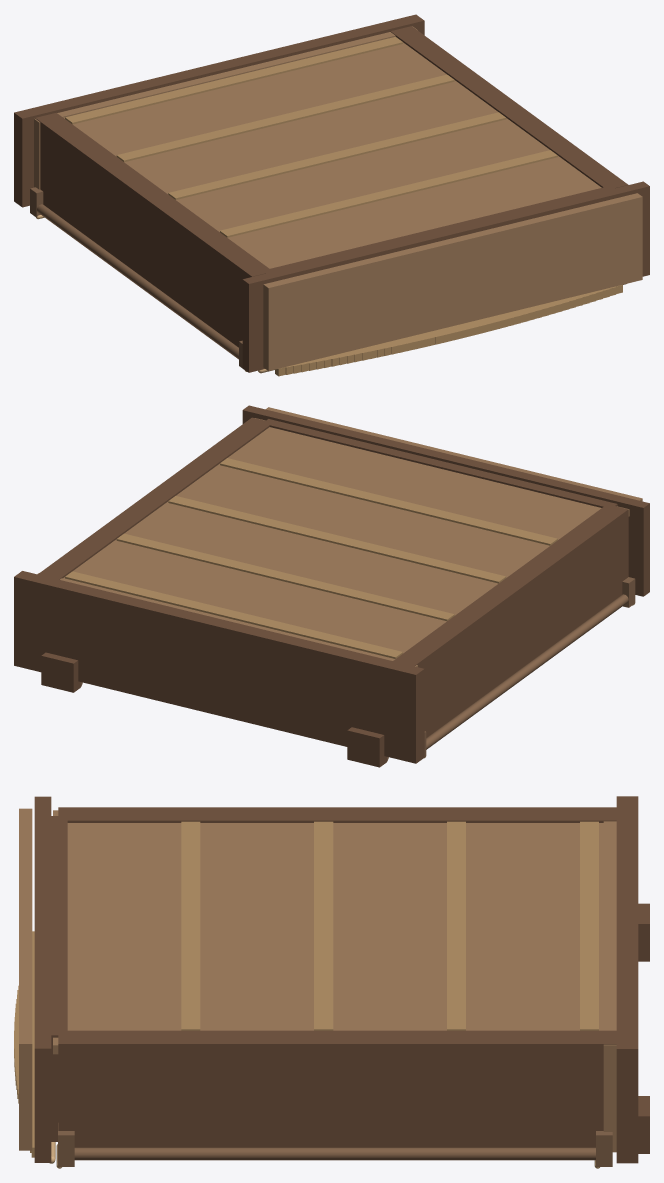
The model's file is arctic_tall_bookshelf_with_bottom_props.glb.
The picture shows the model from 3 angles, top to bottom: view 1: azimuth 30°, elevation 25°; view 2: azimuth 150°, elevation 25°; view 3: azimuth 270°, elevation 25°; orthographic projection. The views are drawn at different scales.
Parts seen in each view (by area): view 1: bookshelf_back_wall_single_clean_panel, bookshelf_top_upper_step_warm, bookshelf_left_side_board_dark_core, bookshelf_top_overhanging_cap_clean, bookshelf_bottom_long_plinth_dark, bookshelf_right_side_board_dark_core, bookshelf_shelf_2_thick_structural_board, bookshelf_shelf_3_thick_structural_board, bookshelf_shelf_4_thick_structural_board, bookshelf_shelf_1_thick_structural_board, bookshelf_bottom_stepped_plinth_walnut, bookshelf_left_front_outer_rounded_edge (+1 smaller); view 2: bookshelf_back_wall_single_clean_panel, bookshelf_bottom_long_plinth_dark, bookshelf_left_side_board_dark_core, bookshelf_top_overhanging_cap_clean, bookshelf_right_side_board_dark_core, bookshelf_shelf_2_thick_structural_board, bookshelf_shelf_3_thick_structural_board, bookshelf_shelf_1_thick_structural_board, bookshelf_shelf_4_thick_structural_board, bookshelf_top_roof_structural_board, bookshelf_left_front_outer_rounded_edge, bookshelf_top_upper_step_warm (+3 smaller); view 3: bookshelf_back_wall_single_clean_panel, bookshelf_right_side_board_dark_core, bookshelf_left_side_board_dark_core, bookshelf_bottom_long_plinth_dark, bookshelf_right_front_outer_rounded_edge, bookshelf_top_overhanging_cap_clean, bookshelf_top_upper_step_warm, bookshelf_top_roof_structural_board, bookshelf_bottom_stepped_plinth_walnut, bookshelf_shelf_3_thick_structural_board, bookshelf_shelf_4_thick_structural_board, bookshelf_shelf_1_thick_structural_board (+5 smaller).
Boxes of the visible parts, left/top/right/bottom form: bookshelf_back_wall_single_clean_panel: left=63, top=42, right=601, bottom=268; bookshelf_top_upper_step_warm: left=263, top=193, right=642, bottom=370; bookshelf_left_side_board_dark_core: left=35, top=112, right=272, bottom=347; bookshelf_top_overhanging_cap_clean: left=242, top=181, right=649, bottom=372; bookshelf_bottom_long_plinth_dark: left=14, top=14, right=424, bottom=207; bookshelf_right_side_board_dark_core: left=390, top=26, right=628, bottom=189; bookshelf_shelf_2_thick_structural_board: left=116, top=74, right=454, bottom=162; bookshelf_shelf_3_thick_structural_board: left=168, top=112, right=506, bottom=199; bookshelf_shelf_4_thick_structural_board: left=220, top=150, right=557, bottom=237; bookshelf_shelf_1_thick_structural_board: left=65, top=36, right=402, bottom=124; bookshelf_bottom_stepped_plinth_walnut: left=34, top=26, right=417, bottom=189; bookshelf_left_front_outer_rounded_edge: left=37, top=204, right=238, bottom=359; bookshelf_back_wall_single_clean_panel: left=63, top=418, right=629, bottom=659; bookshelf_bottom_long_plinth_dark: left=14, top=571, right=424, bottom=763; bookshelf_left_side_board_dark_core: left=393, top=504, right=628, bottom=737; bookshelf_top_overhanging_cap_clean: left=242, top=405, right=649, bottom=596; bookshelf_right_side_board_dark_core: left=38, top=417, right=272, bottom=579; bookshelf_shelf_2_thick_structural_board: left=116, top=533, right=454, bottom=621; bookshelf_shelf_3_thick_structural_board: left=168, top=496, right=506, bottom=583; bookshelf_shelf_1_thick_structural_board: left=65, top=571, right=402, bottom=658; bookshelf_shelf_4_thick_structural_board: left=220, top=458, right=557, bottom=545; bookshelf_top_roof_structural_board: left=266, top=419, right=617, bottom=508; bookshelf_left_front_outer_rounded_edge: left=426, top=594, right=628, bottom=749; bookshelf_top_upper_step_warm: left=265, top=407, right=642, bottom=501; bookshelf_back_wall_single_clean_panel: left=53, top=810, right=603, bottom=1054; bookshelf_right_side_board_dark_core: left=58, top=1030, right=616, bottom=1147; bookshelf_left_side_board_dark_core: left=58, top=807, right=616, bottom=822; bookshelf_bottom_long_plinth_dark: left=616, top=796, right=638, bottom=1163; bookshelf_right_front_outer_rounded_edge: left=74, top=1147, right=595, bottom=1160; bookshelf_top_overhanging_cap_clean: left=34, top=796, right=51, bottom=1162; bookshelf_top_upper_step_warm: left=19, top=808, right=32, bottom=1150; bookshelf_top_roof_structural_board: left=51, top=816, right=67, bottom=1141; bookshelf_bottom_stepped_plinth_walnut: left=603, top=821, right=616, bottom=1152; bookshelf_shelf_3_thick_structural_board: left=314, top=821, right=333, bottom=1030; bookshelf_shelf_4_thick_structural_board: left=181, top=821, right=200, bottom=1030; bookshelf_shelf_1_thick_structural_board: left=580, top=821, right=598, bottom=1030.
Bounding box in the file's own units: 7.2 × 1.7 × 7.66.
